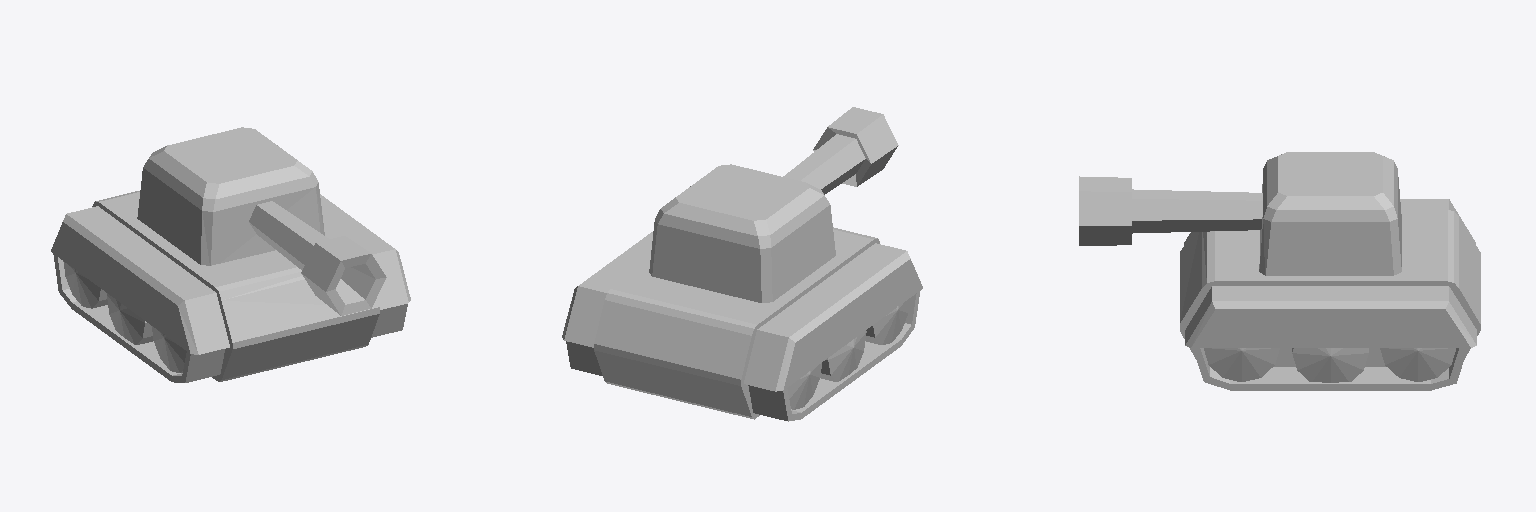
The model's file is TankPlayer.obj.
3 views of the same model, side by side, from view 1: azimuth 30°, elevation 25°; view 2: azimuth 150°, elevation 25°; view 3: azimuth 270°, elevation 25° (orthographic).
Visible parts, largest first — view 1: polygon1; view 2: polygon1; view 3: polygon1.
Boxes of the visible parts, <box> form: polygon1: <box>51,127,410,382</box>; polygon1: <box>562,107,922,421</box>; polygon1: <box>1079,152,1480,390</box>.
Bounding box in the file's own units: 20.11 × 14.17 × 31.45.